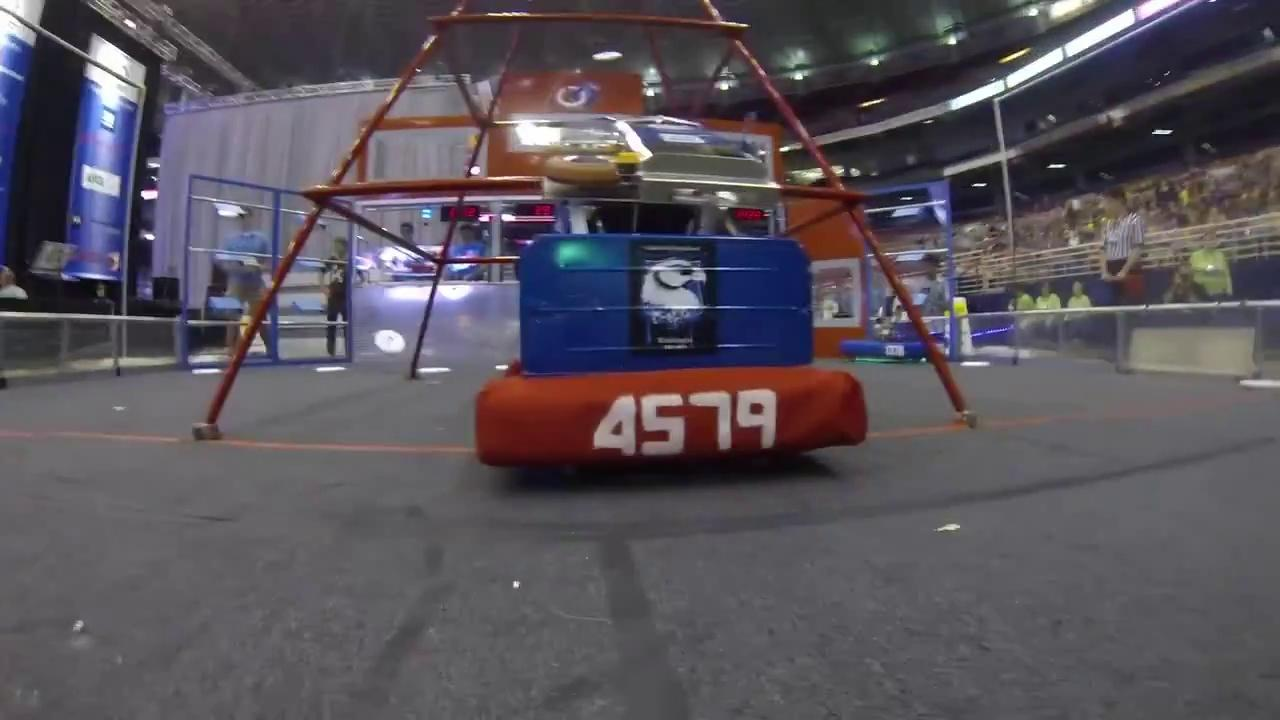robot: (469, 118, 870, 479), (839, 274, 952, 365)
